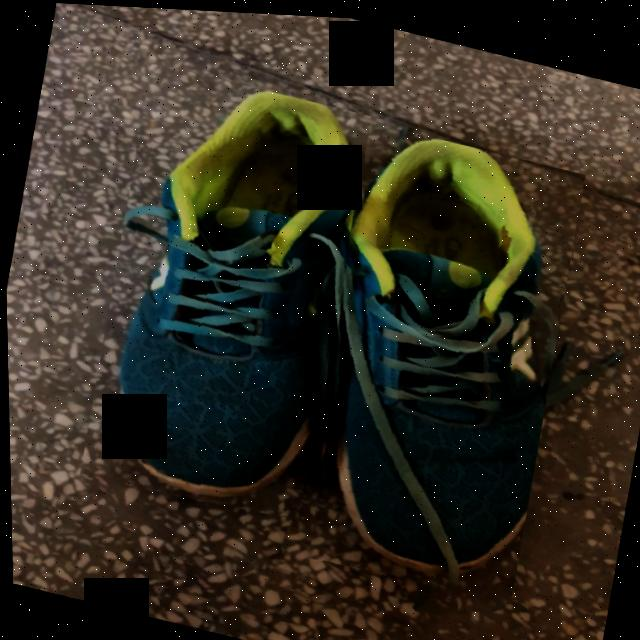shoe: (117, 90, 359, 502), (341, 138, 542, 576)
